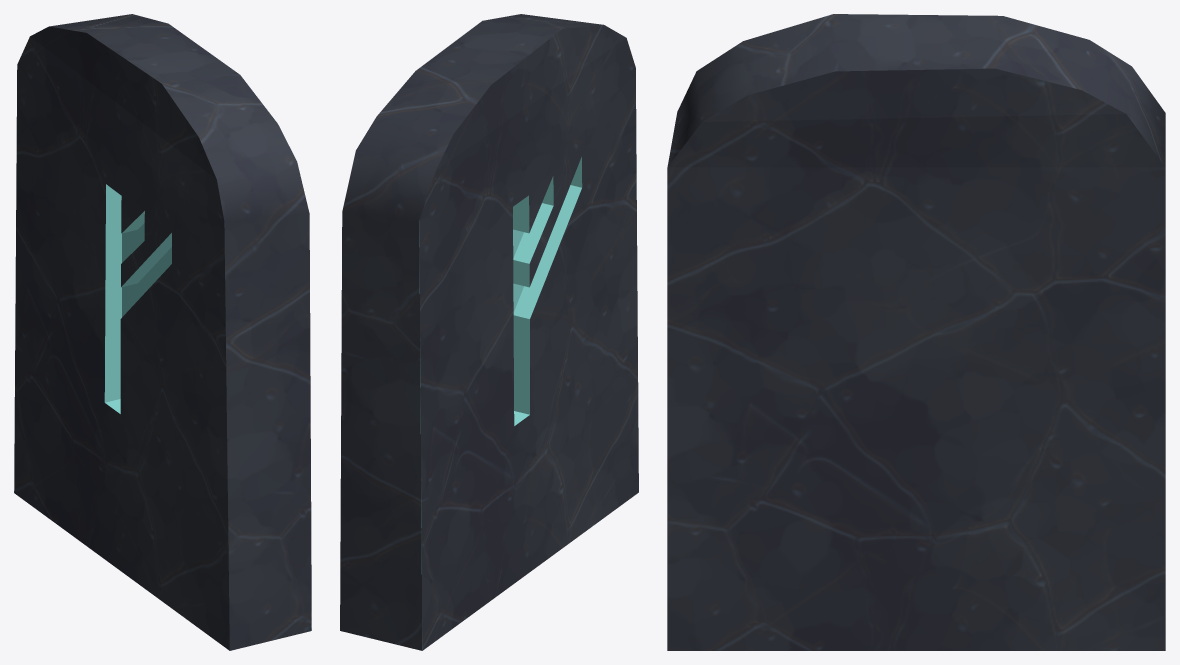
Rendered from Door 2.fbx.
The picture shows the model from 3 angles, left to right: view 1: azimuth 30°, elevation 25°; view 2: azimuth 150°, elevation 25°; view 3: azimuth 270°, elevation 25°; orthographic projection. The views are drawn at different scales.
Parts seen in each view (by area): view 1: Door_2_3; view 2: Door_2_3; view 3: Door_2_3.
Boxes of the visible parts, box(x1,y1,x2,y2) form: Door_2_3: box(14, 14, 311, 650); Door_2_3: box(340, 14, 638, 650); Door_2_3: box(667, 14, 1165, 650).
Bounding box in the file's own units: 0.7182 × 4.18 × 3.18.
